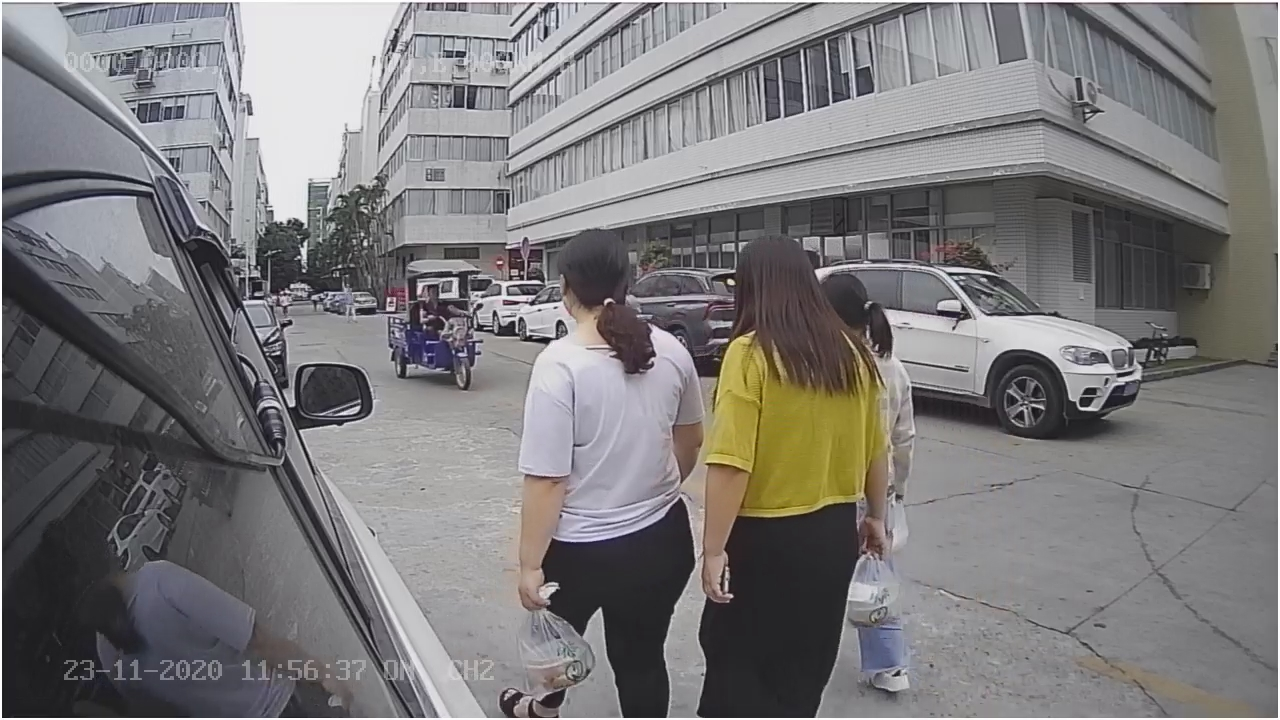person: (689, 228, 903, 720), (500, 220, 705, 720)
